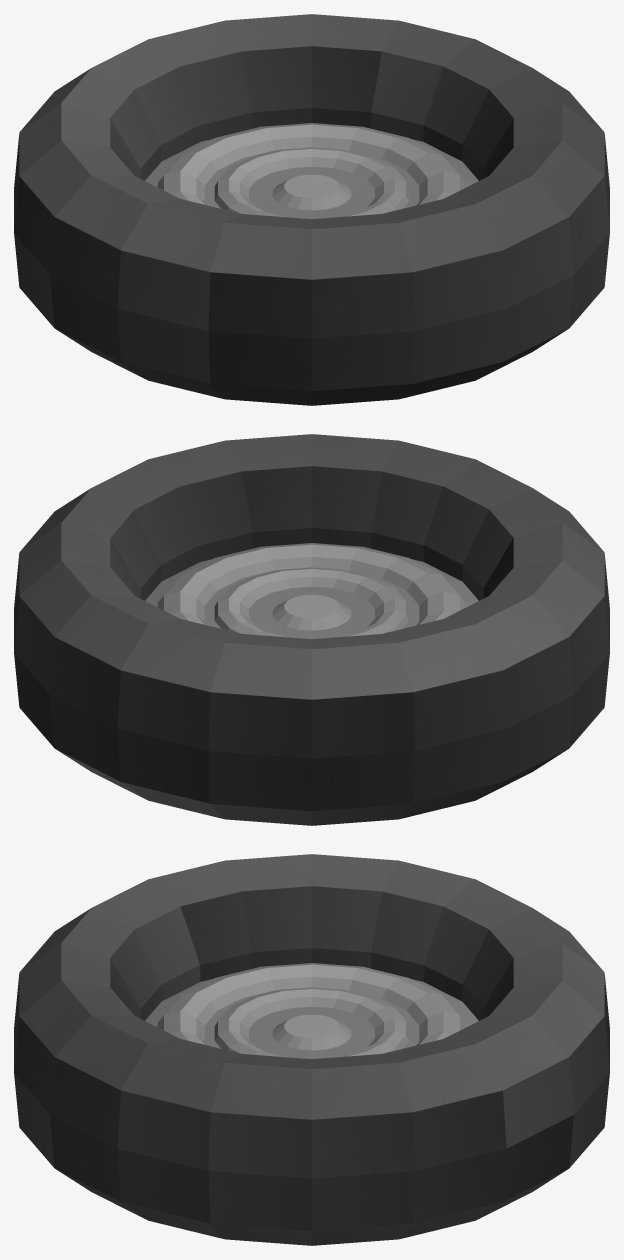
Rendered from wheel.glb.
3 views of the same model, one above another, from view 1: azimuth 30°, elevation 25°; view 2: azimuth 150°, elevation 25°; view 3: azimuth 270°, elevation 25° (orthographic).
Visible parts, largest first — view 1: wheel; view 2: wheel; view 3: wheel.
Part boxes in pixels (left/top/right/bottom): wheel: left=14, top=14, right=609, bottom=405; wheel: left=14, top=434, right=609, bottom=825; wheel: left=14, top=854, right=609, bottom=1245.
Bounding box in the file's own units: 0.8214 × 0.2645 × 0.8089.
1 material, 1 textured.
